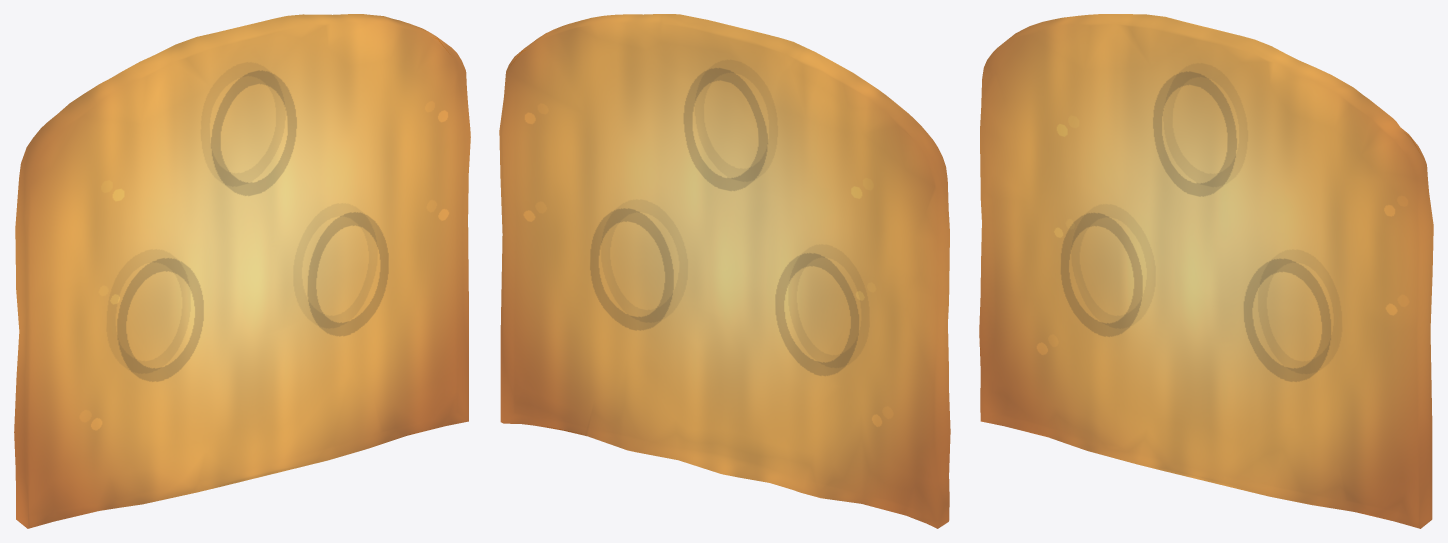
Rendered from grand_crane_sceau.glb.
3 views of the same model, side by side, from view 1: azimuth 30°, elevation 25°; view 2: azimuth 150°, elevation 25°; view 3: azimuth 330°, elevation 25° (orthographic).
Parts seen in each view (by area): view 1: SceauAmbre; view 2: SceauAmbre; view 3: SceauAmbre.
Boxes of the visible parts, x1,y1,x2,y2 form: SceauAmbre: (14, 14, 470, 528); SceauAmbre: (499, 14, 950, 528); SceauAmbre: (979, 14, 1433, 528).
Size of the model in its own units: 4.69 by 4.5 by 0.3824.
1 material, 1 textured.
